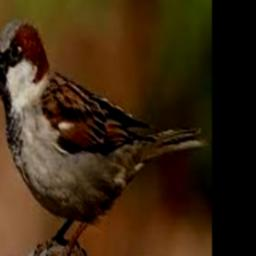Sparrow: (0, 20, 209, 256)
